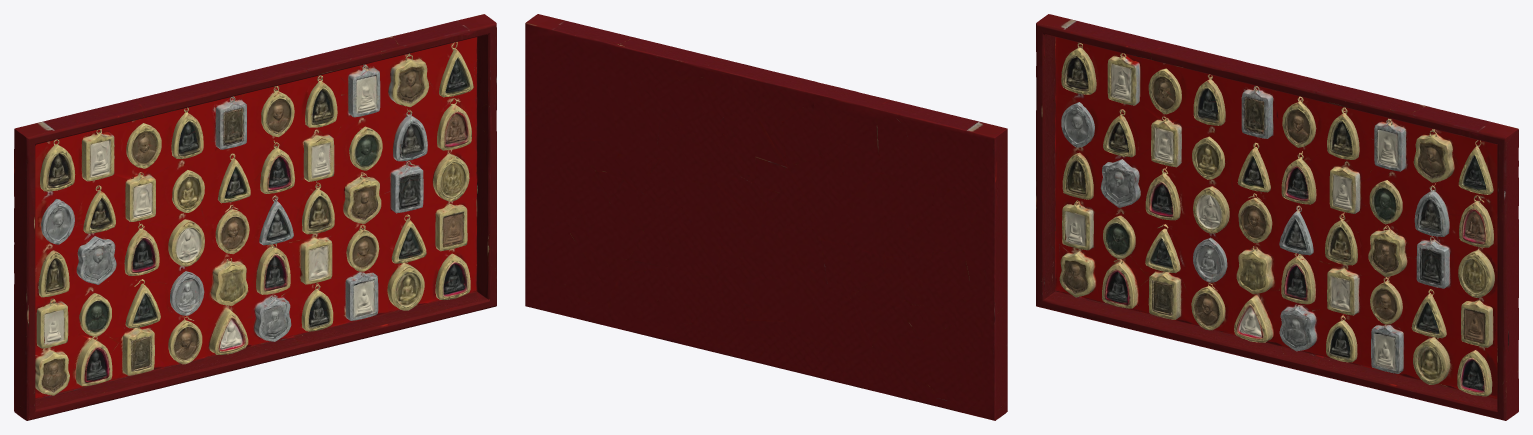
Rendered from traynear.glb.
The picture shows the model from 3 angles, left to right: view 1: azimuth 30°, elevation 25°; view 2: azimuth 150°, elevation 25°; view 3: azimuth 330°, elevation 25°; orthographic projection.
Size of the model in its own units: 1.9 by 1.1 by 0.0971.
1 material, 1 textured.
